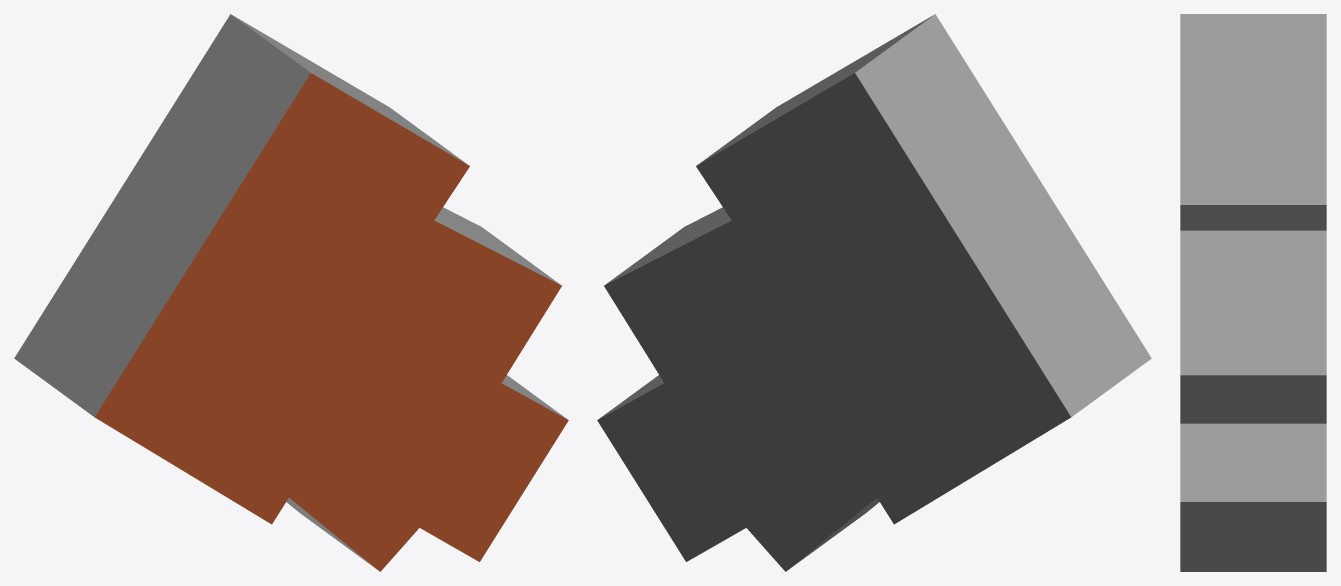
The model's file is construction_3226_assumed_A_Casa_h6m.obj.
3 views of the same model, side by side, from view 1: azimuth 30°, elevation 25°; view 2: azimuth 150°, elevation 25°; view 3: azimuth 270°, elevation 25° (orthographic). The views are drawn at different scales.
Visible parts, largest first — view 1: construction_3226_assumed_A_Casa; view 2: construction_3226_assumed_A_Casa; view 3: construction_3226_assumed_A_Casa.
Part boxes in pixels (left/top/right/bottom): construction_3226_assumed_A_Casa: left=14, top=14, right=568, bottom=571; construction_3226_assumed_A_Casa: left=597, top=14, right=1151, bottom=571; construction_3226_assumed_A_Casa: left=1180, top=14, right=1326, bottom=571.
Size of the model in its own units: 20.42 by 21.83 by 6.
